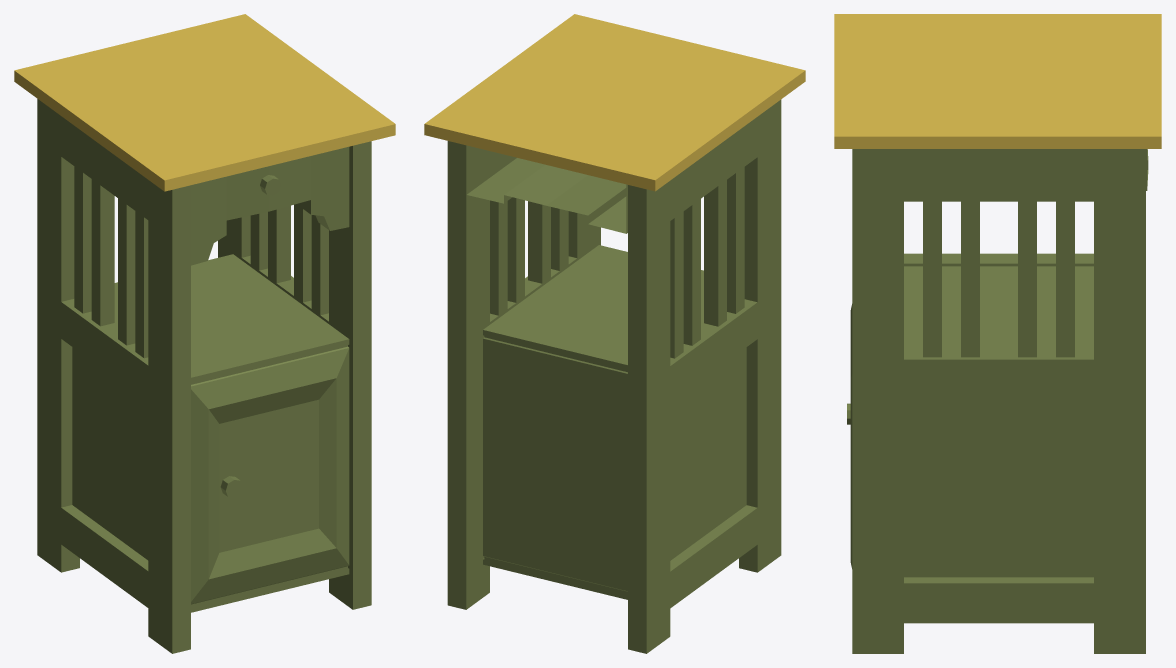
The model's file is Bedside table.fbx.
3 views of the same model, side by side, from view 1: azimuth 30°, elevation 25°; view 2: azimuth 150°, elevation 25°; view 3: azimuth 270°, elevation 25° (orthographic). The views are drawn at different scales.
Visible parts, largest first — view 1: green_tumba; view 2: green_tumba; view 3: green_tumba.
Part boxes in pixels (x1=…): green_tumba: x1=14, y1=14, x2=395, y2=653; green_tumba: x1=424, y1=14, x2=805, y2=653; green_tumba: x1=834, y1=14, x2=1161, y2=653.
Size of the model in its own units: 144 by 287 by 162.
